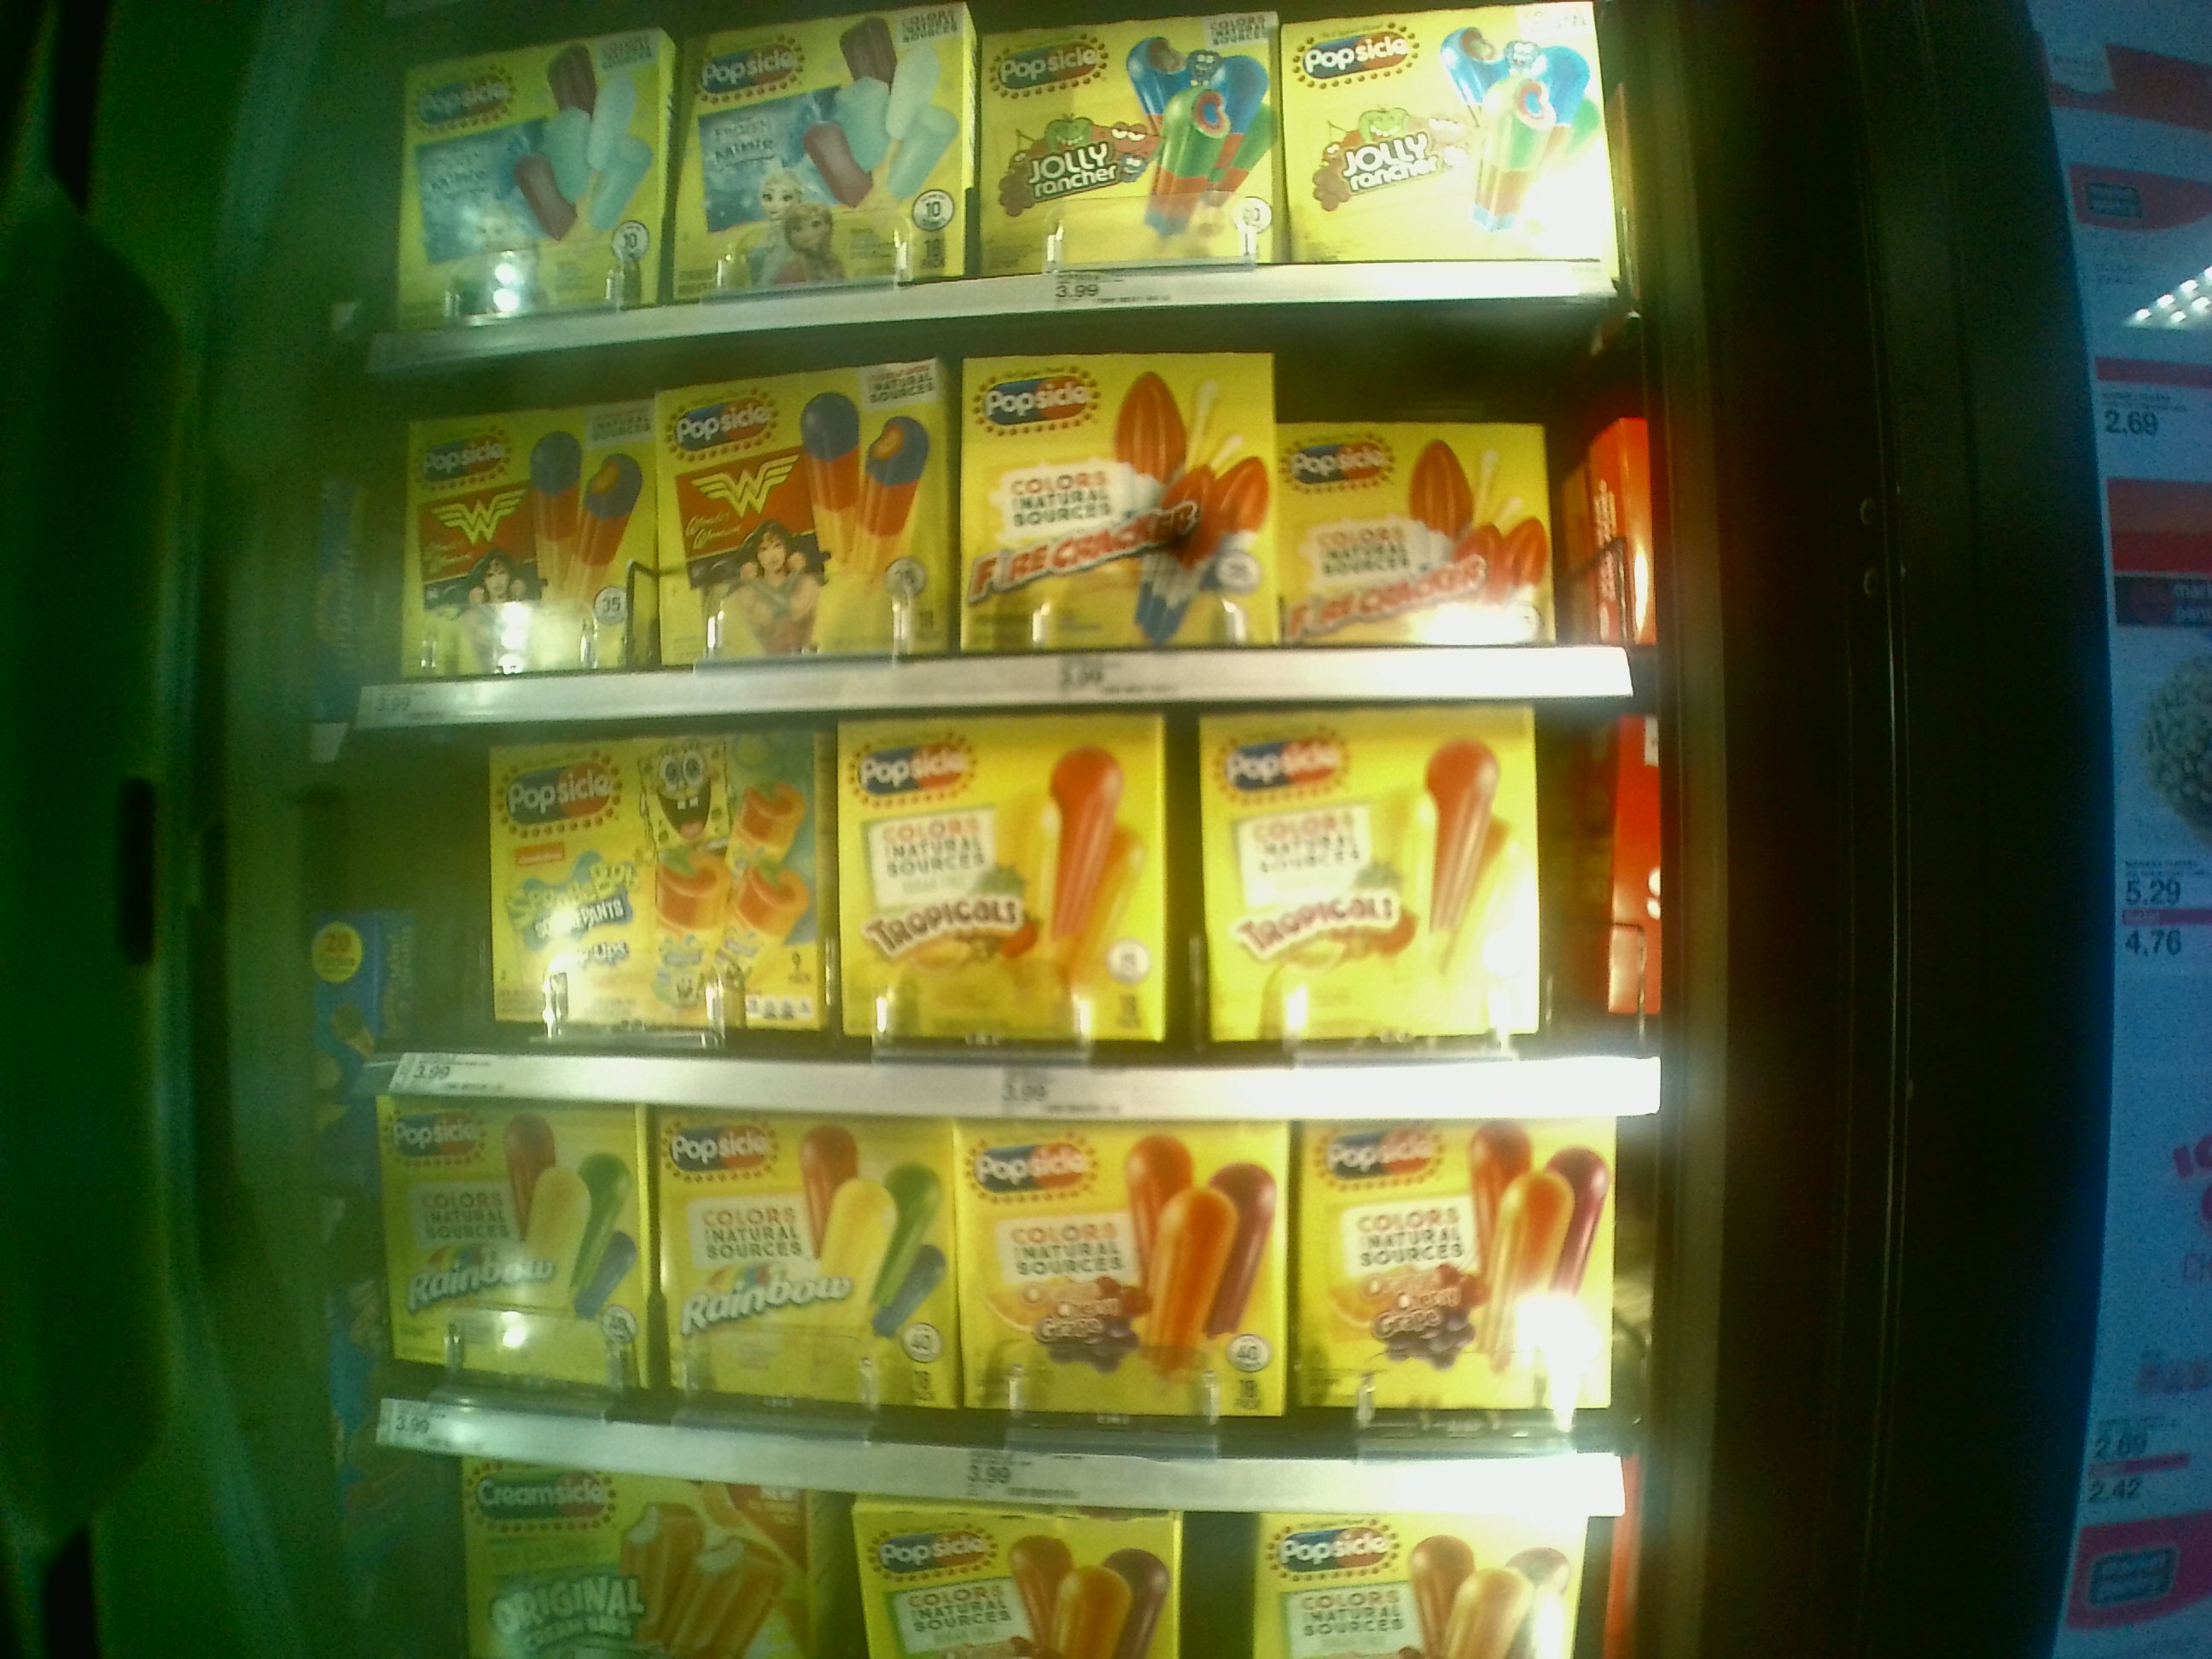shelf: (347, 1080, 1662, 1471), (374, 706, 1667, 1093), (359, 331, 1635, 695)
